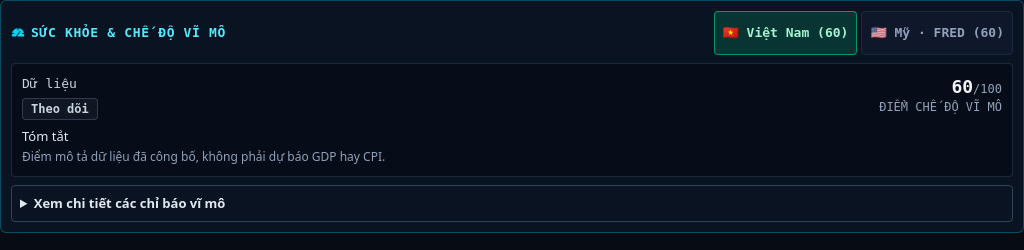
market UI interactions › switches the macro region and pressed state
Click the button "🇺🇸 Mỹ · FRED (60)": (937, 33) [861, 11, 1013, 55]
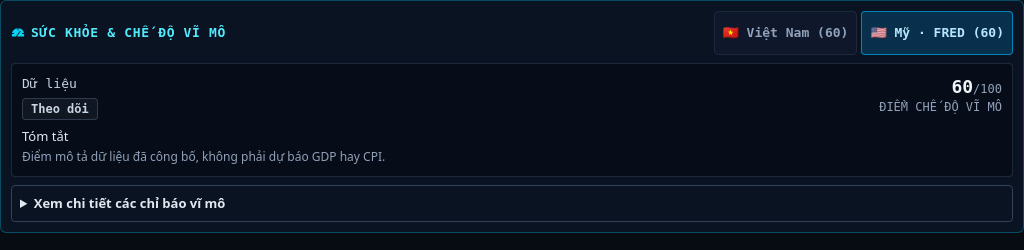
Now the button "🇺🇸 Mỹ · FRED (60)" is pressed, box [861, 11, 1013, 55]
